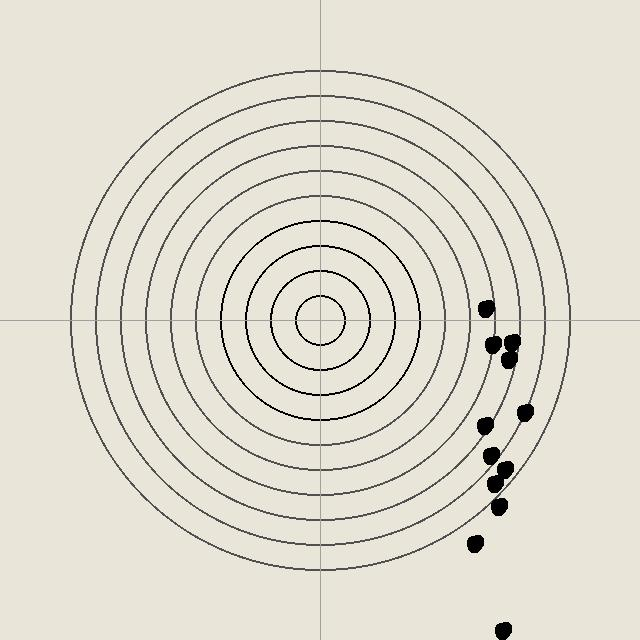vertical_scatter: (475, 298, 495, 318), (482, 334, 502, 354), (480, 445, 500, 465), (501, 332, 521, 352), (498, 349, 518, 369), (484, 473, 504, 493), (488, 496, 508, 516), (464, 533, 484, 553), (514, 402, 534, 422), (494, 459, 514, 479), (492, 620, 512, 640), (474, 415, 494, 435)
